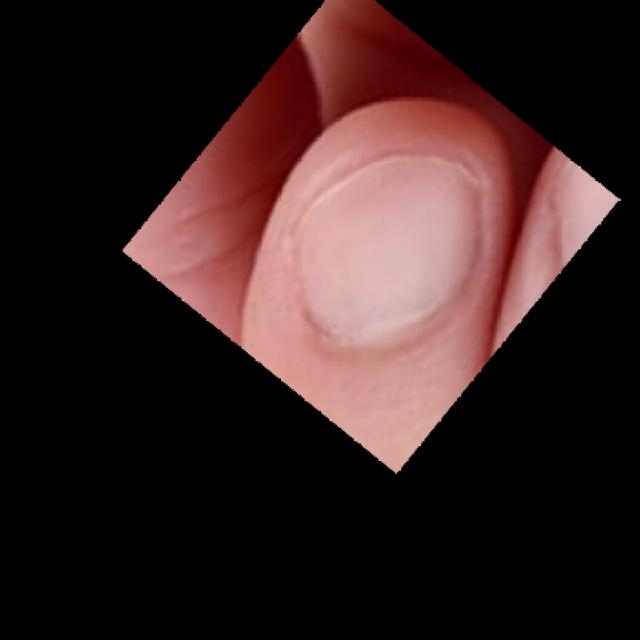Nail: (292, 154, 482, 346)
